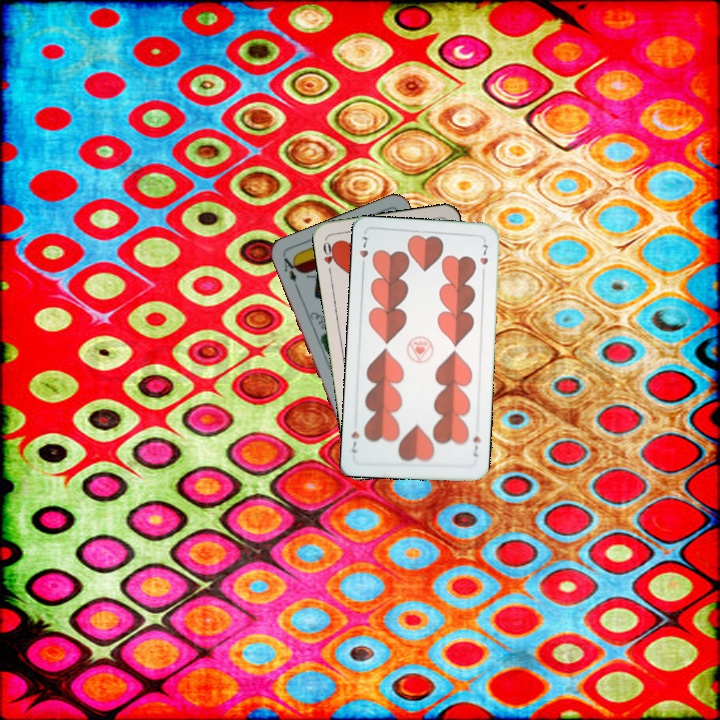EA: (280, 253, 301, 292)
H7: (355, 232, 370, 271), (469, 432, 483, 459)
HO: (319, 236, 339, 277)
